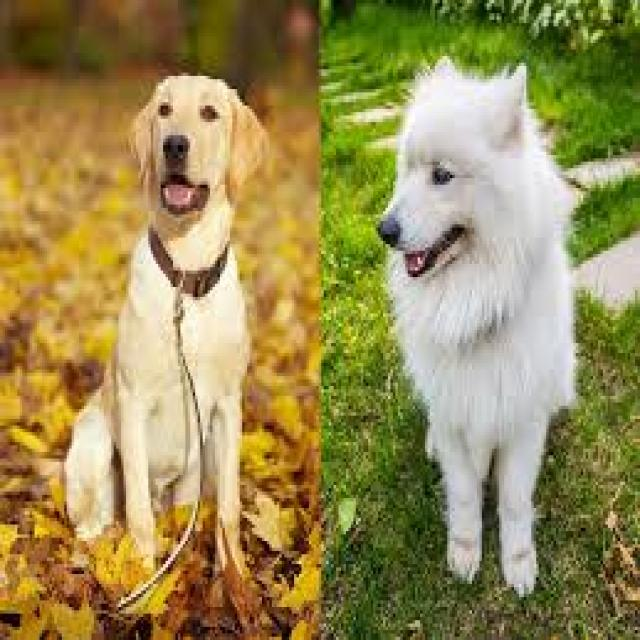dogs: (374, 51, 580, 601)
